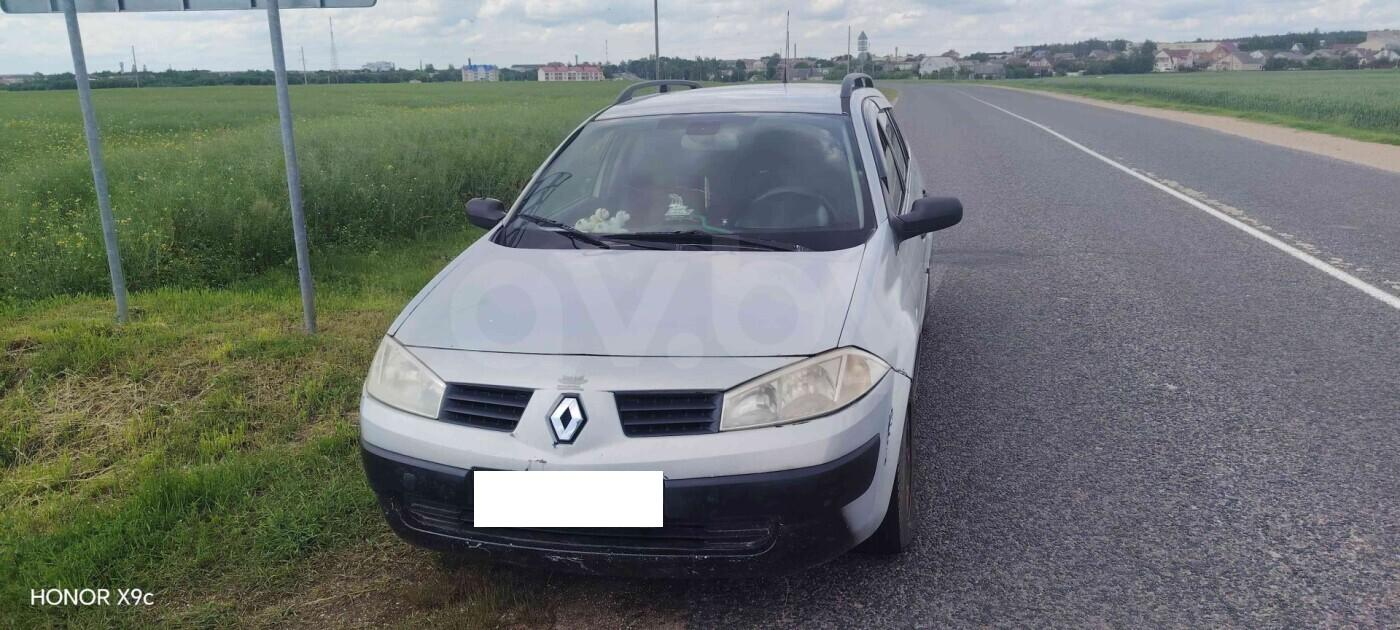Megane_2002-2006: (356, 67, 957, 575)
